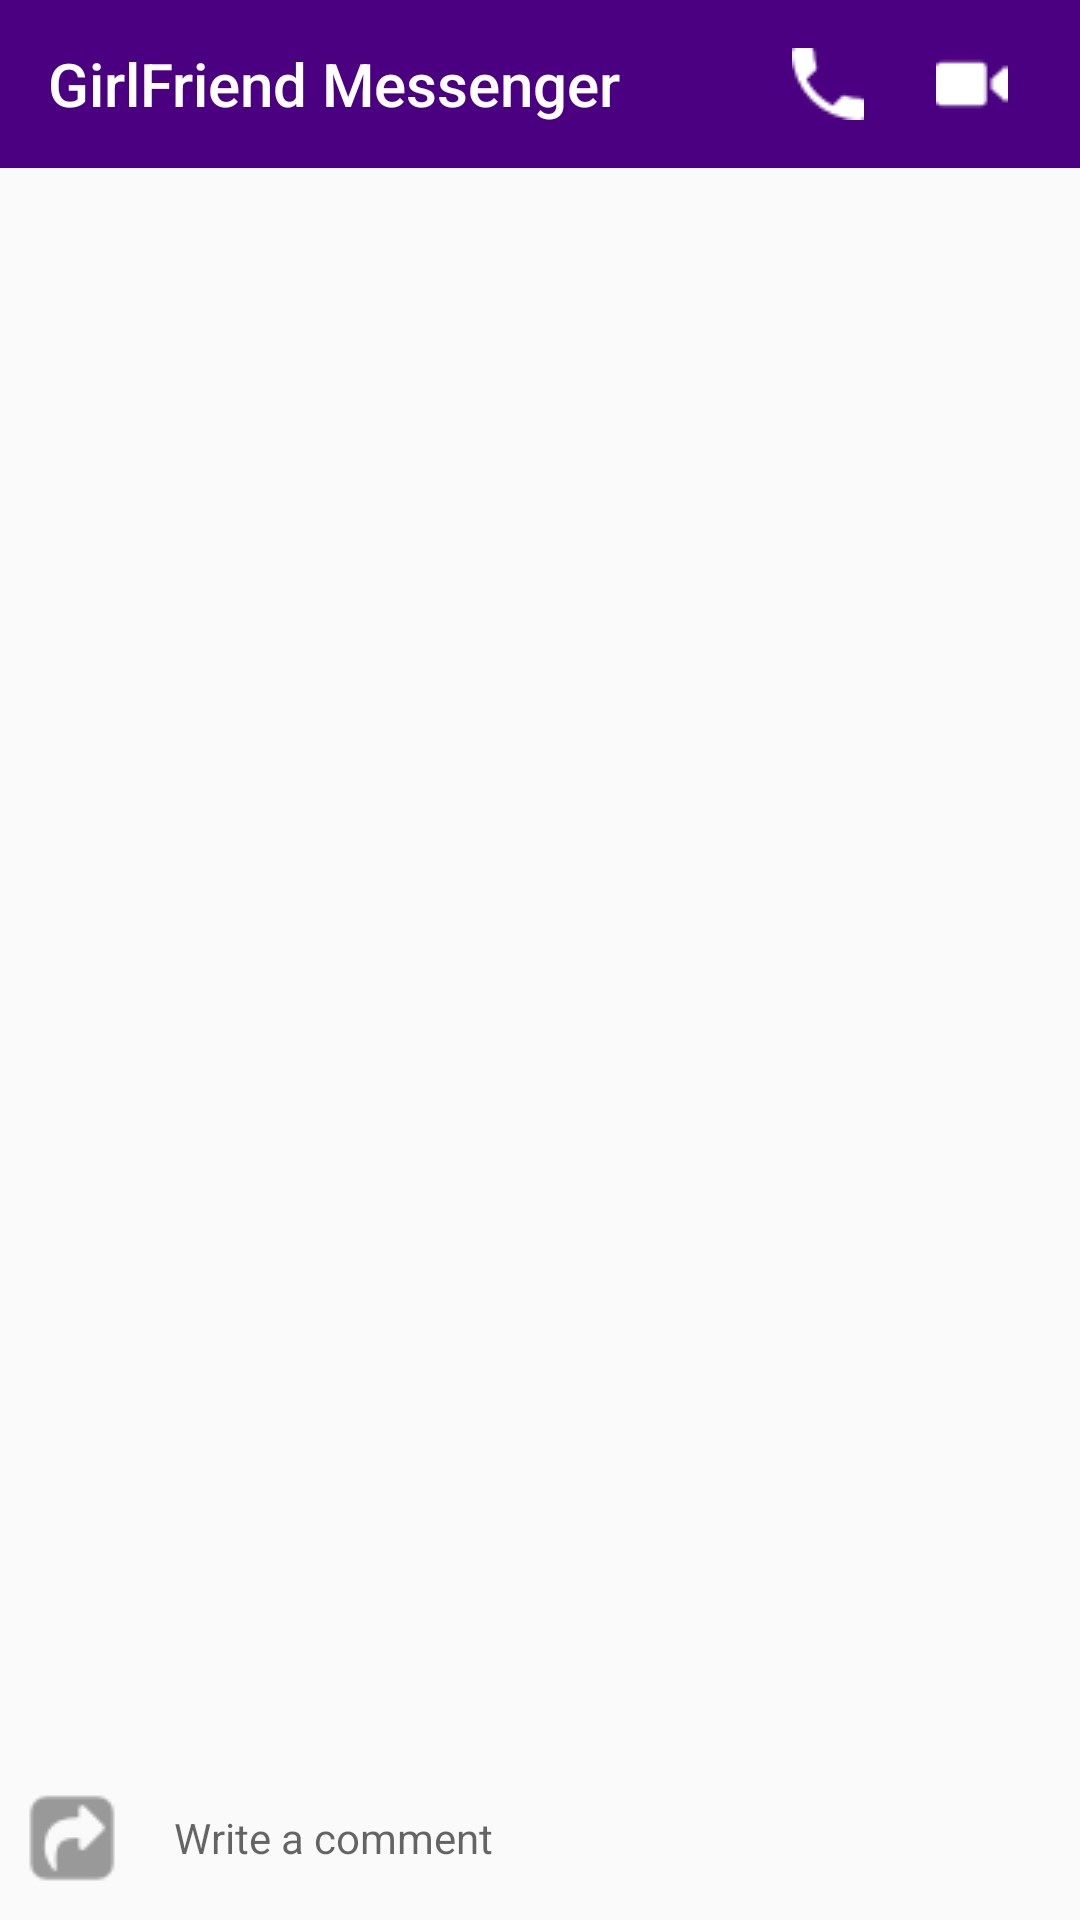

Named icons in this screenshot (1080 × 1920) and their centers, point (x, y):
phoneicon: point (828, 84)
shareicon: point (72, 1838)
videochaticon: point (972, 84)
